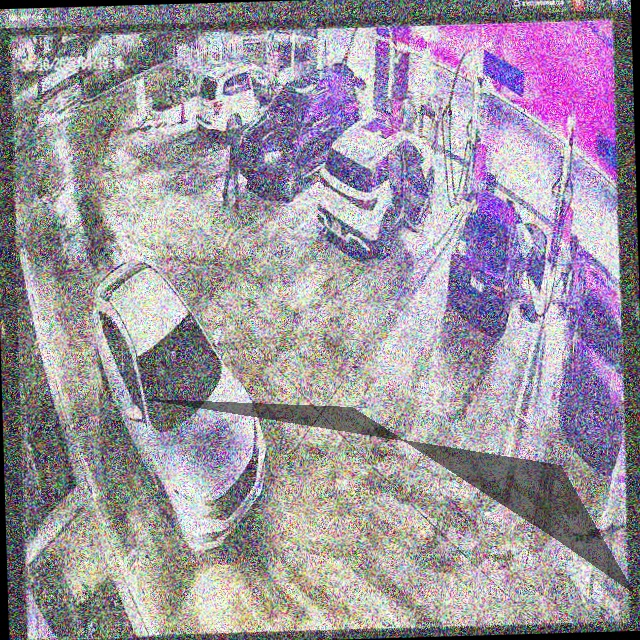Car: (92, 254, 270, 558), (315, 115, 444, 258), (236, 63, 366, 202), (446, 187, 548, 336), (190, 57, 297, 145)
